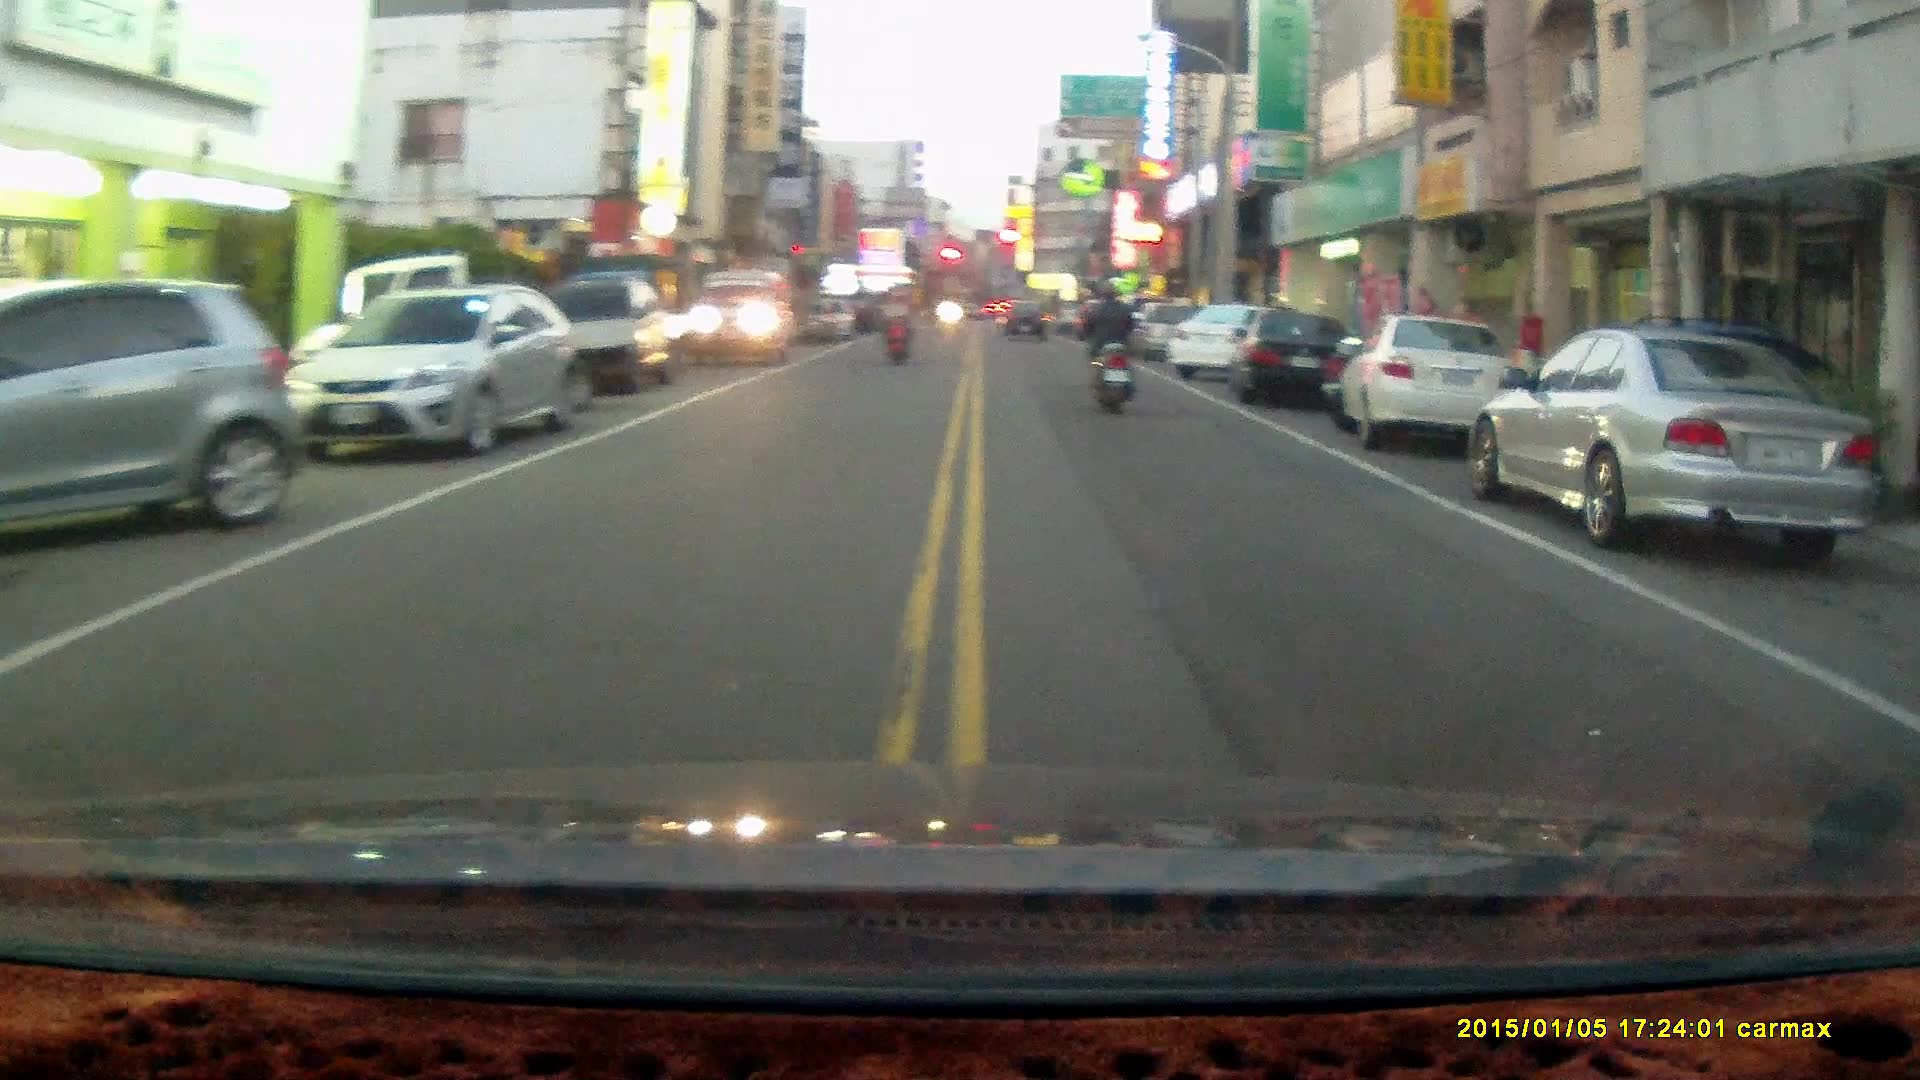rider: (1077, 278, 1138, 419), (882, 283, 915, 368)
vehicle: (1473, 323, 1888, 557), (1, 278, 308, 547), (286, 281, 574, 459), (1337, 313, 1532, 450), (535, 270, 680, 399), (1233, 304, 1356, 411), (686, 267, 798, 367)
